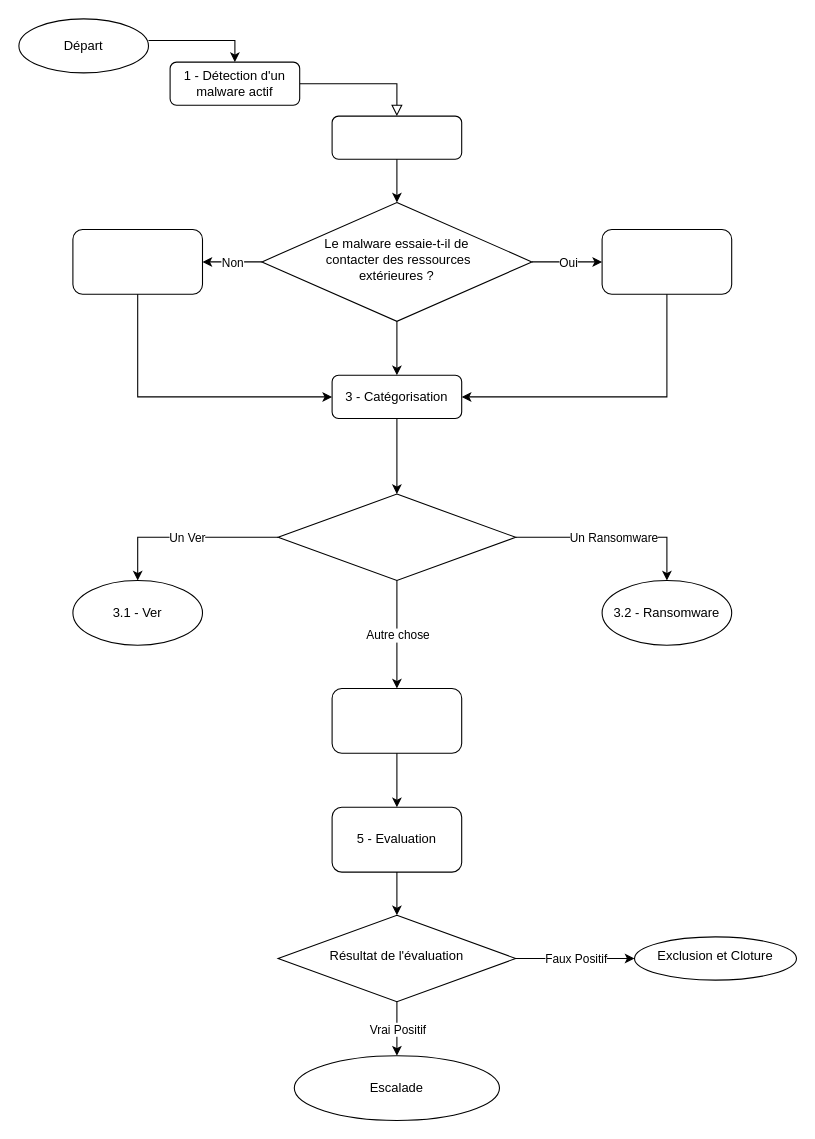
The diagram is 815 pixels wide and 1139 high, and some of its shapes have lost their labels. Each missing label, with the centre of its shape:
"2 - Collecte de données" goes at [396,137].
"4 - Triage" goes at [396,720].
"Données Fichiers" goes at [137,261].
"Données Fichiers, Domaines, IP" goes at [666,261].
"Le malware est ..." goes at [396,536].
